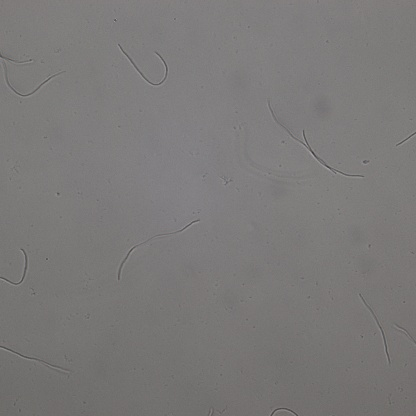Sensitive: (268, 100, 364, 178), (117, 218, 198, 279), (1, 53, 67, 97), (361, 293, 391, 362), (119, 45, 168, 86), (1, 345, 70, 374), (1, 247, 30, 285), (269, 407, 298, 416), (397, 132, 416, 145)
